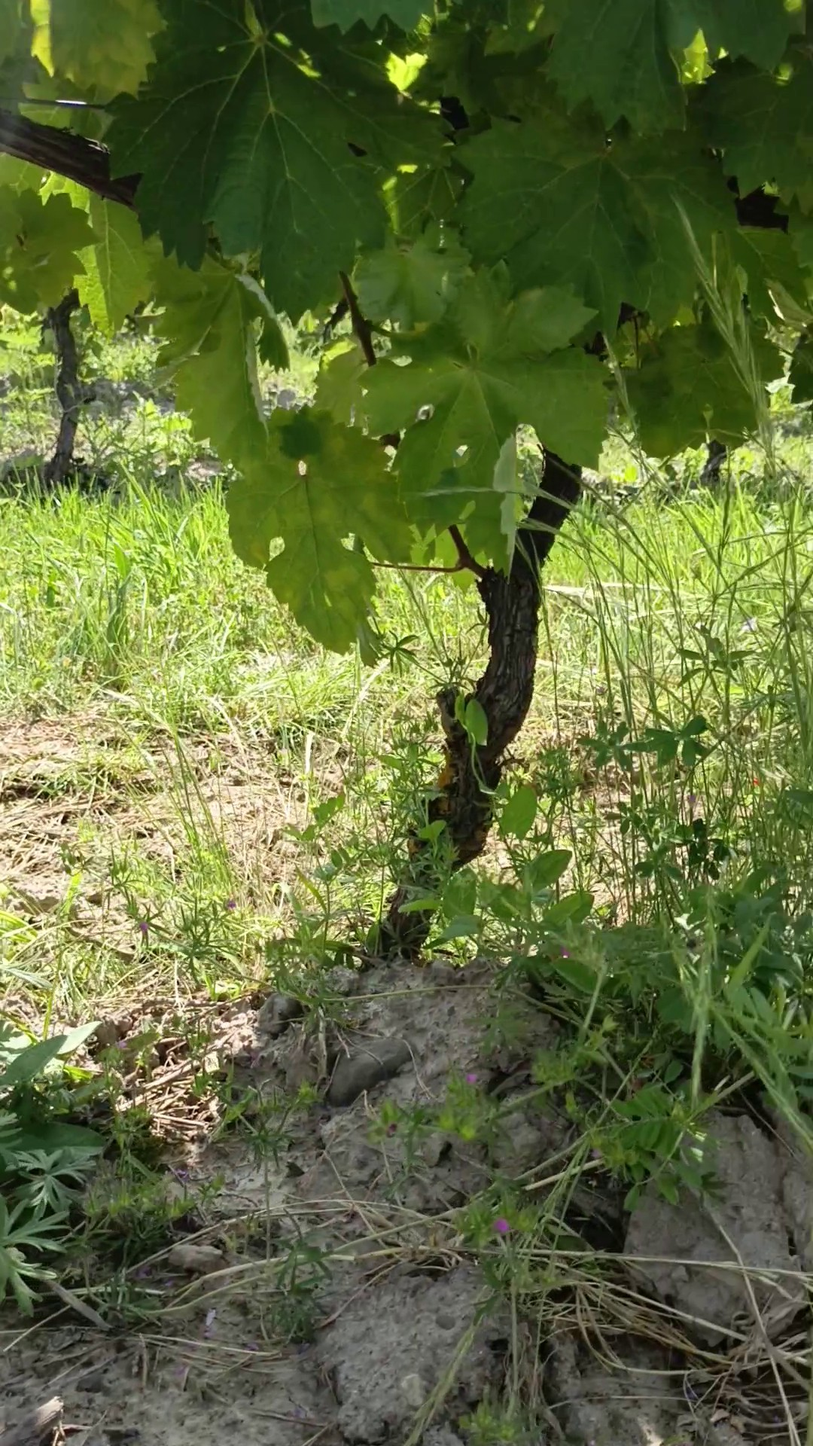vine_trunk: (430, 453, 580, 868)
